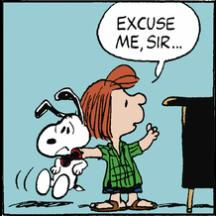snoopy: (33, 86, 91, 200)
